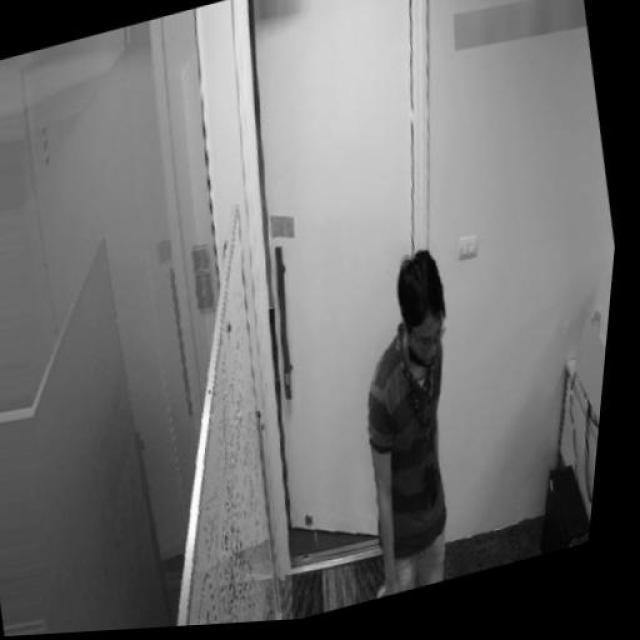hairnet: (406, 329, 456, 379)
